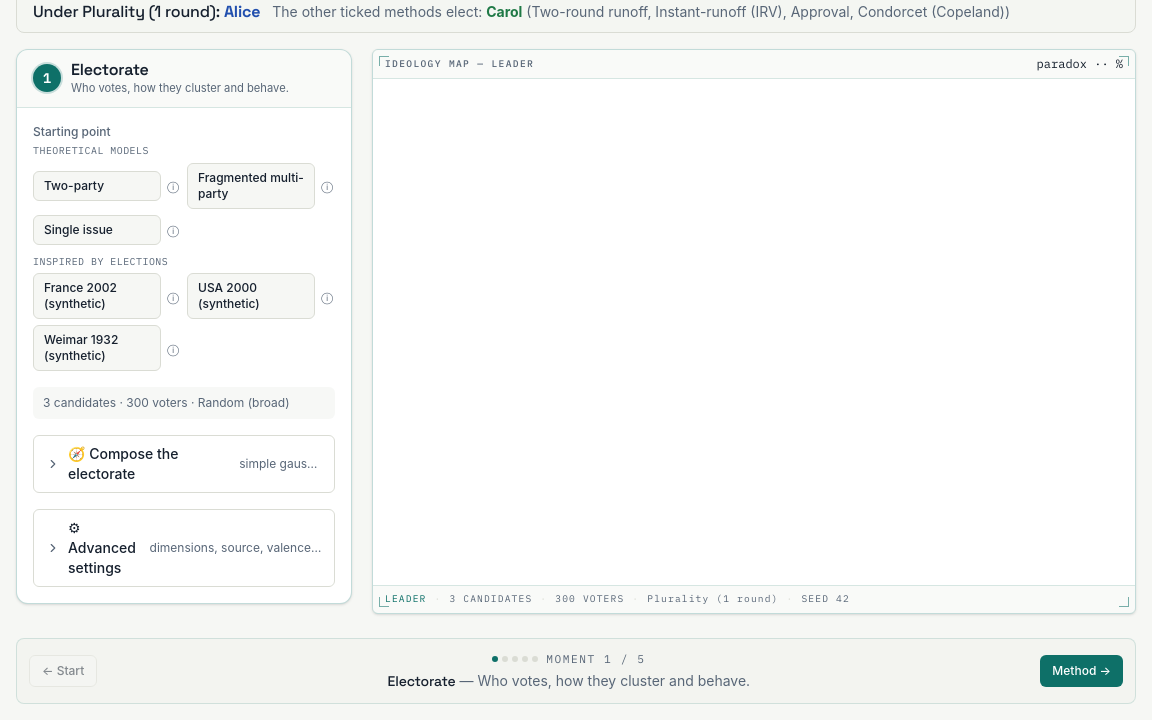
Test case: PlaygroundPage (P0 shell) › the electorate composer ships collapsed and opens on demand
(page scrolled)
Click the button with test id "module-electorate-toggle".
click(123, 454)  # box x1=34 y1=436 x2=334 y2=492
(page scrolled)
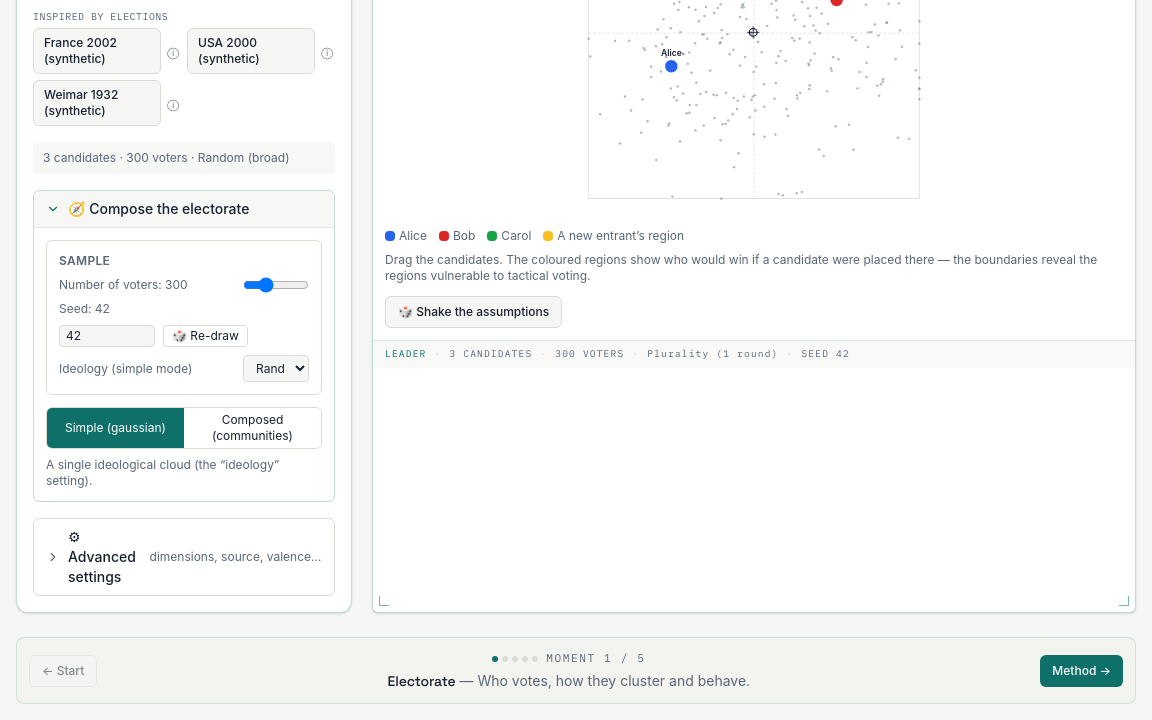
Expected: the element with test id "electorate-composer" is shown, x1=46 y1=240 x2=322 y2=489
